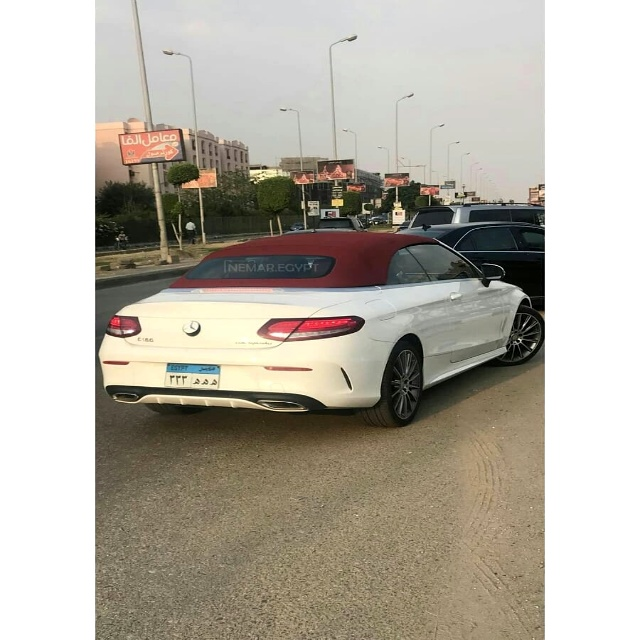License Plate: (162, 362, 223, 392)
